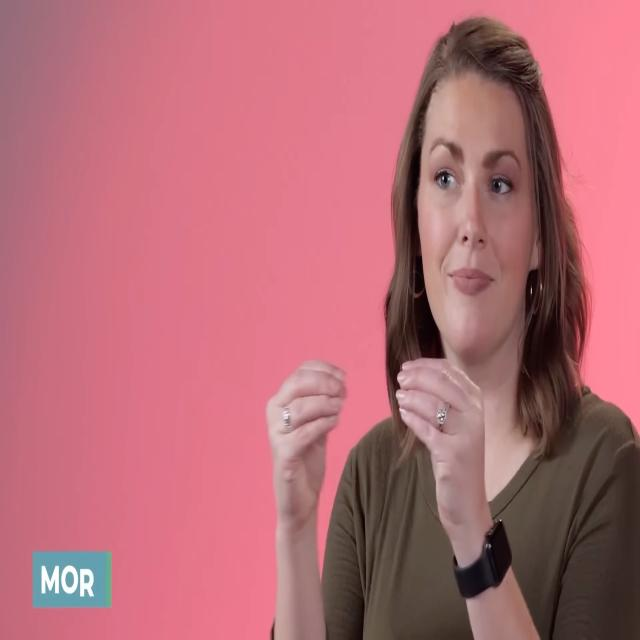more: (226, 345, 514, 553)
